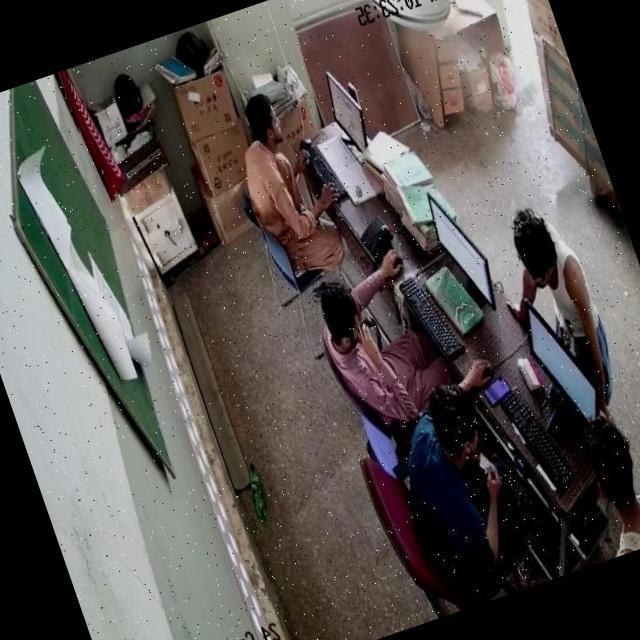person: (383, 376, 531, 582), (500, 190, 630, 407), (225, 76, 338, 272), (303, 270, 430, 424), (570, 411, 640, 557)
